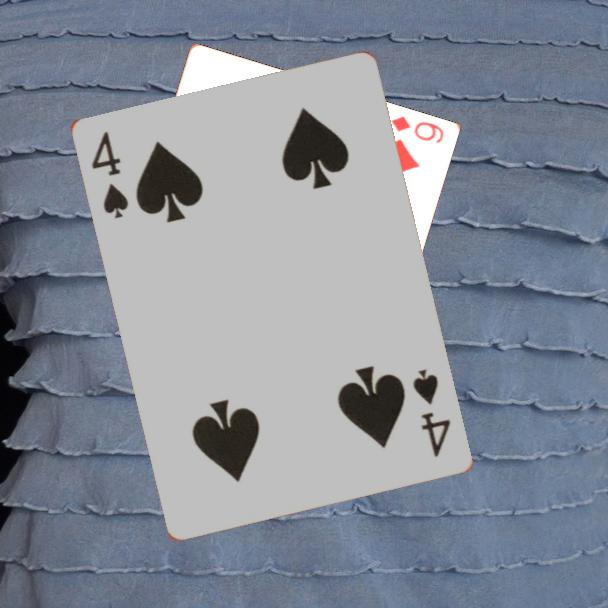d06: (387, 113, 446, 146)
s04: (408, 365, 453, 460), (87, 128, 131, 221)
